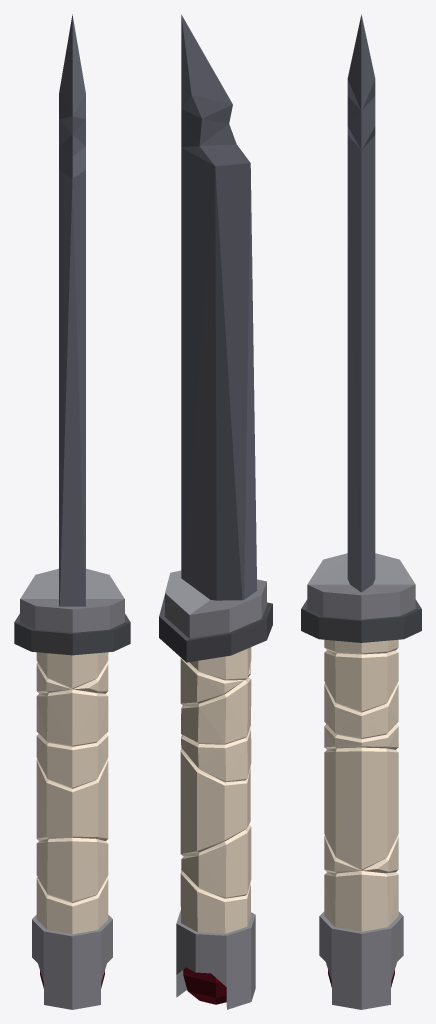
File: dagger_dagger_3.glb
3 views of the same model, side by side, from view 1: azimuth 90°, elevation 25°; view 2: azimuth 150°, elevation 25°; view 3: azimuth 270°, elevation 25° (orthographic). The views are drawn at different scales.
Parts seen in each view (by area): view 1: dagger_3; view 2: dagger_3; view 3: dagger_3.
Boxes of the visible parts, x1,y1,x2,y2 form: dagger_3: (14,14,130,1009); dagger_3: (159,14,272,1009); dagger_3: (301,14,421,1009).
Size of the model in its own units: 4.71 by 43.19 by 4.71.
1 material, 1 textured.
